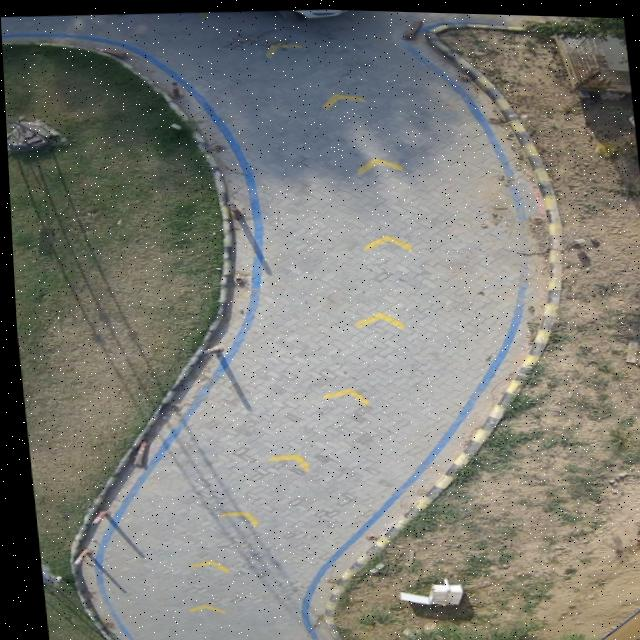car: (294, 7, 351, 16)
